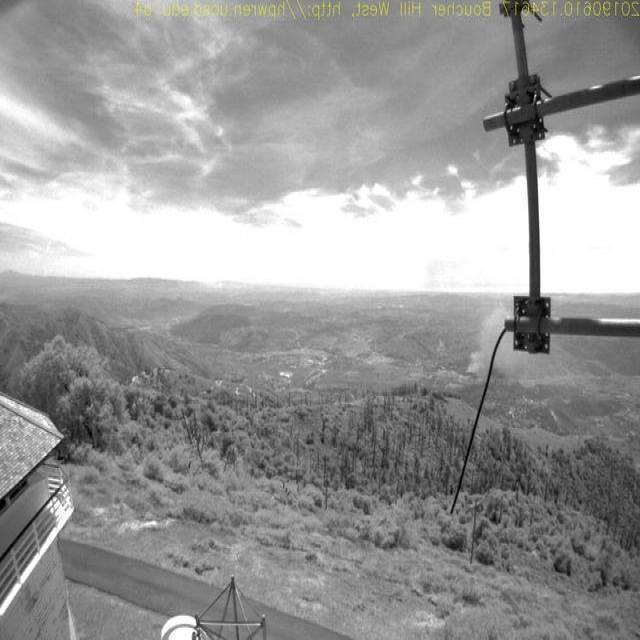Smoke: (466, 302, 511, 382)
